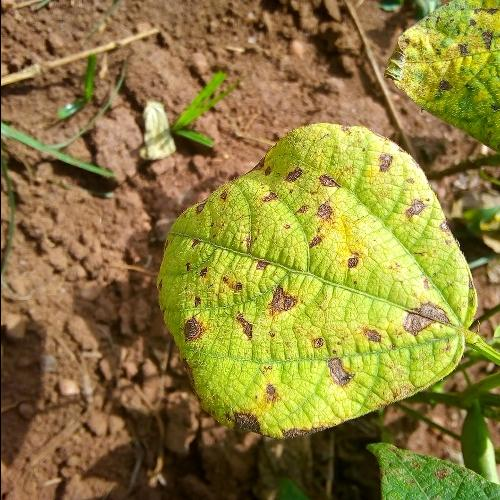hawar: (196, 148, 436, 446)
